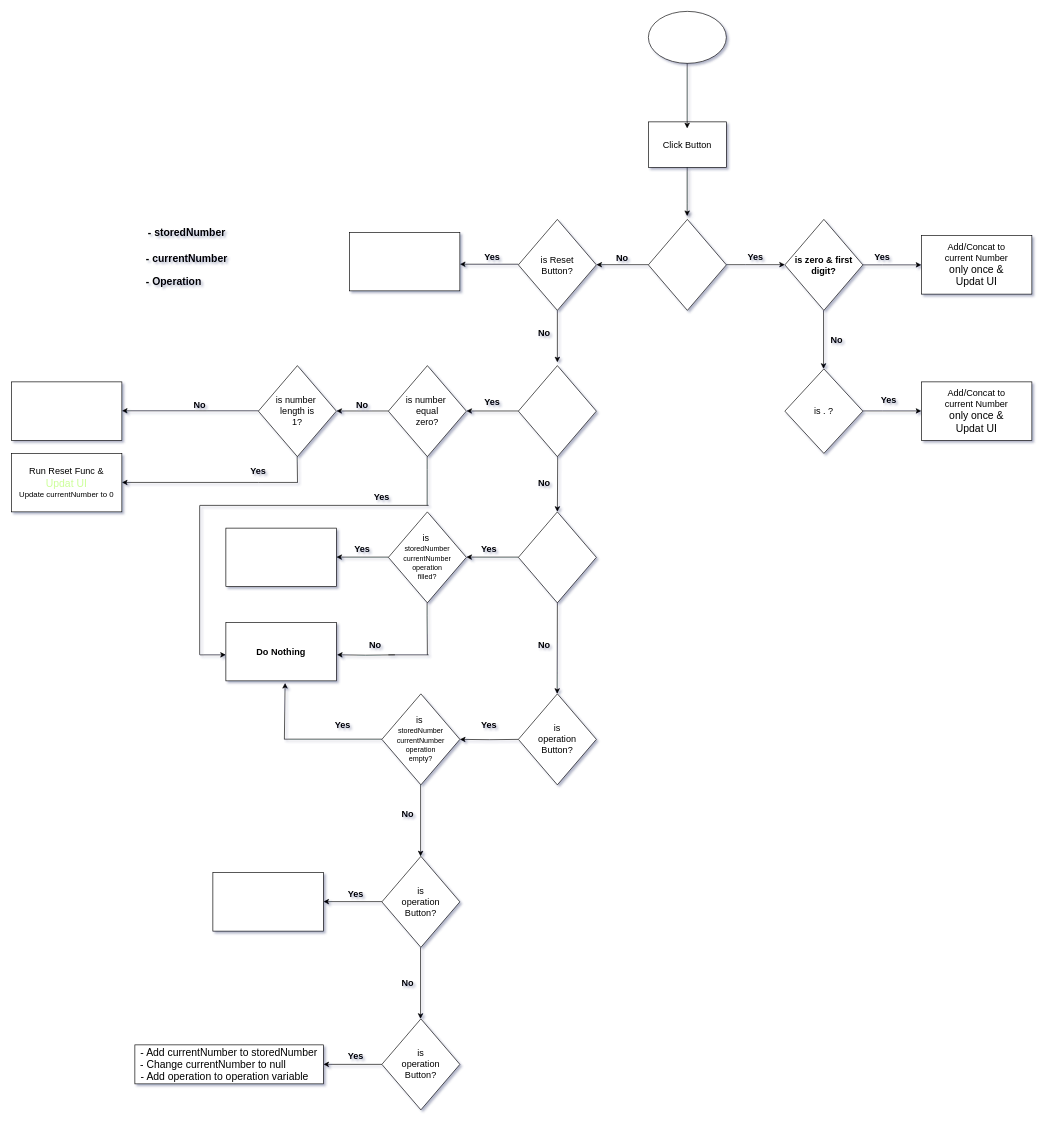
Some shapes in this 1047 by 1125 pixel diagram are drawn without their labels. Each missing label, with the centre of its shape:
"is Delete Button?" belongs at (557,411).
"is Equal Button?" belongs at (557,557).
"is Number?" belongs at (687,264).
"Run Equal Func and Save Result storedNumber & currentNumber" belongs at (267,901).
"Run Equal Func apply the opeation on storedNumber & currentNumber" belongs at (280,557).
"Run Reset Func & Updat UI Delete last digit from currentNumber" belongs at (66,410).
"Run Reset Func Clear all values storedNumber, CurrentNumber, Operation" belongs at (404,261).
"Start" belongs at (687,37).
